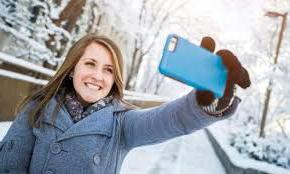face: (73, 44, 115, 104)
